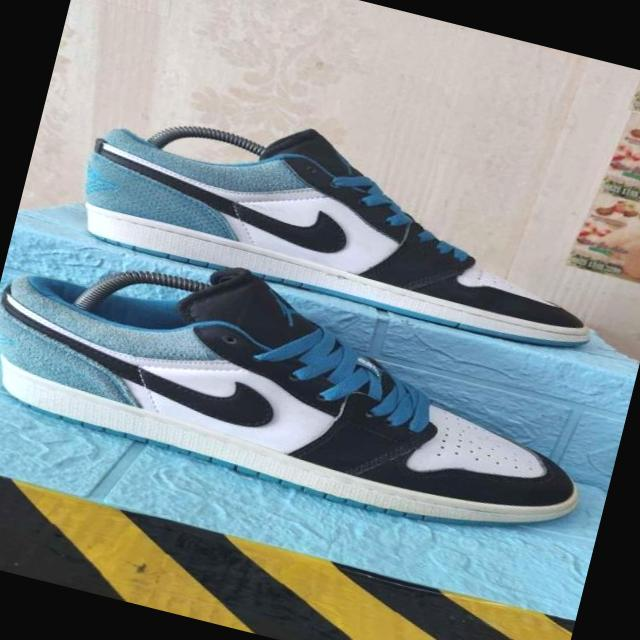nike_fake_jordan: (0, 211, 615, 562), (67, 74, 620, 360)
